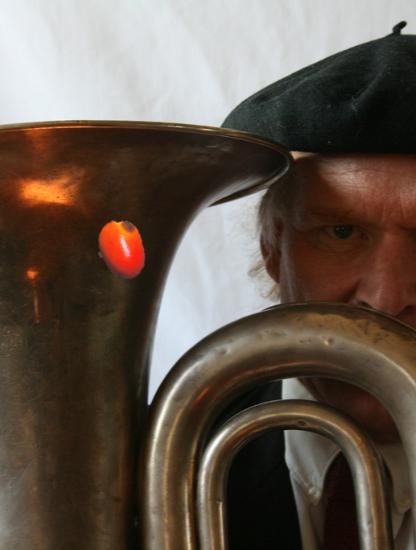Kaki: (90, 219, 153, 282)
